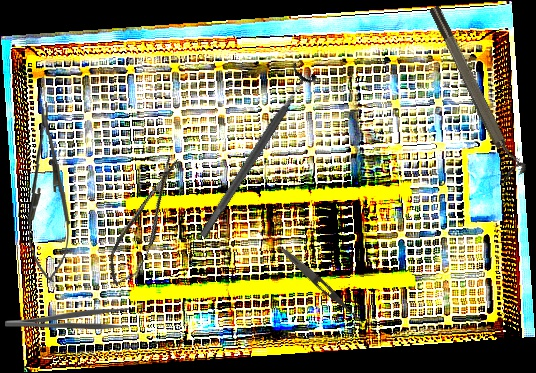Dressing Forceps: (278, 245, 368, 327), (5, 307, 129, 330)
Fixation Ring: (189, 61, 319, 245), (425, 0, 529, 182)
Micro Scissor: (98, 151, 193, 292)
Needle Holder: (23, 101, 73, 284)
